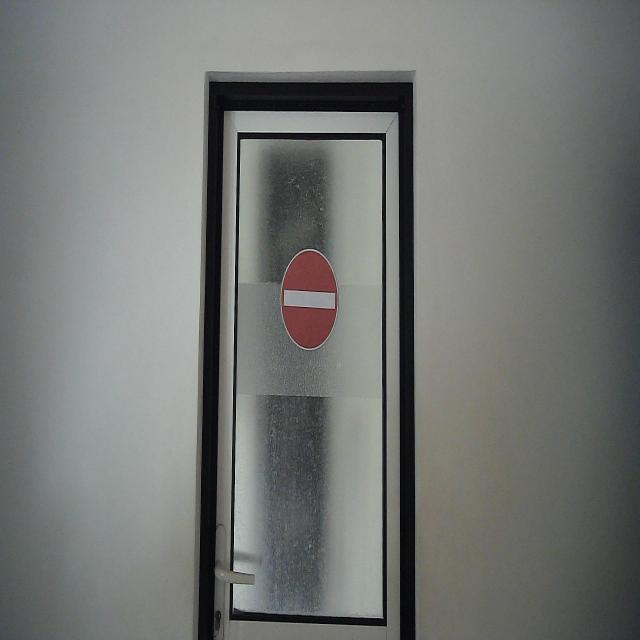no_entry: (279, 246, 340, 354)
